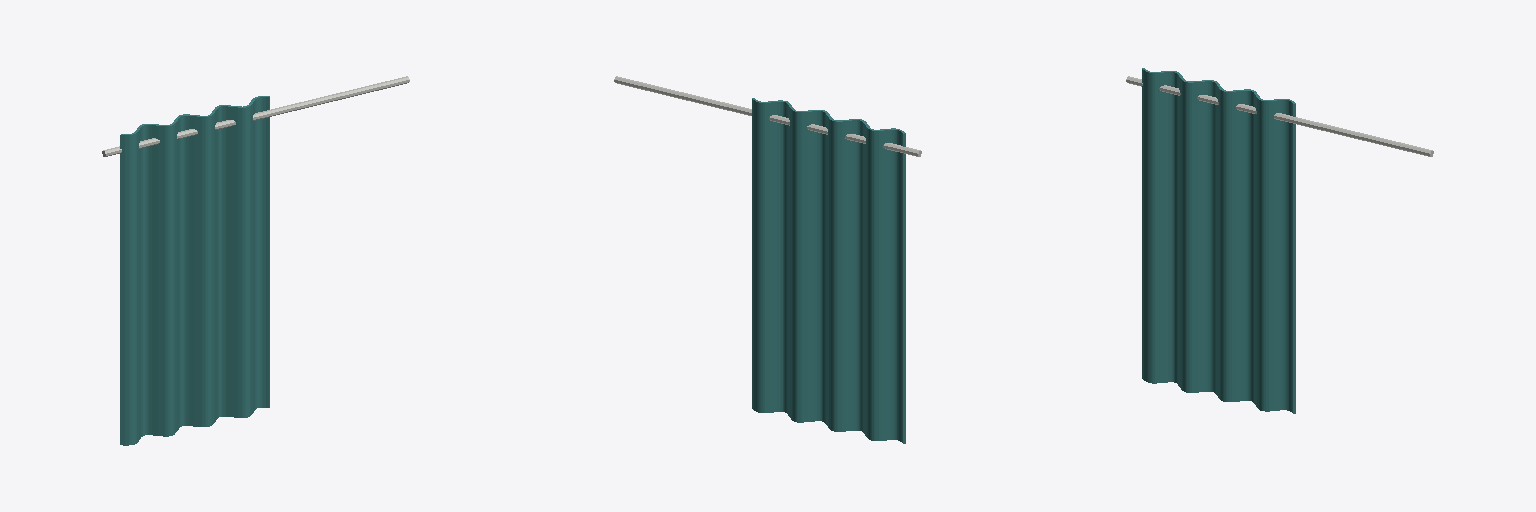
The model's file is Prop_Bathroom_Shower_Curtain.obj.
3 views of the same model, side by side, from view 1: azimuth 30°, elevation 25°; view 2: azimuth 150°, elevation 25°; view 3: azimuth 330°, elevation 25° (orthographic).
Parts seen in each view (by area): view 1: object2, object1; view 2: object2, object1; view 3: object2, object1.
Part boxes in pixels (x1,y1,x2,y2): object2: (120,96,269,445); object1: (102,76,409,156); object2: (752,98,905,443); object1: (614,76,921,156); object2: (1142,68,1295,413); object1: (1126,76,1433,156).
Bounding box in the file's own units: 2 × 1.95 × 0.1.